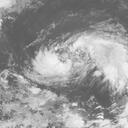cyclone: (26, 30, 119, 90)
